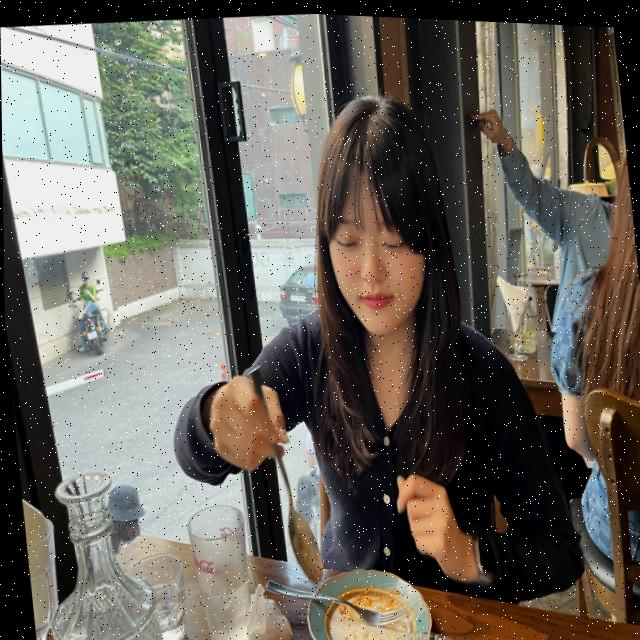eating-person: (123, 46, 591, 640)
